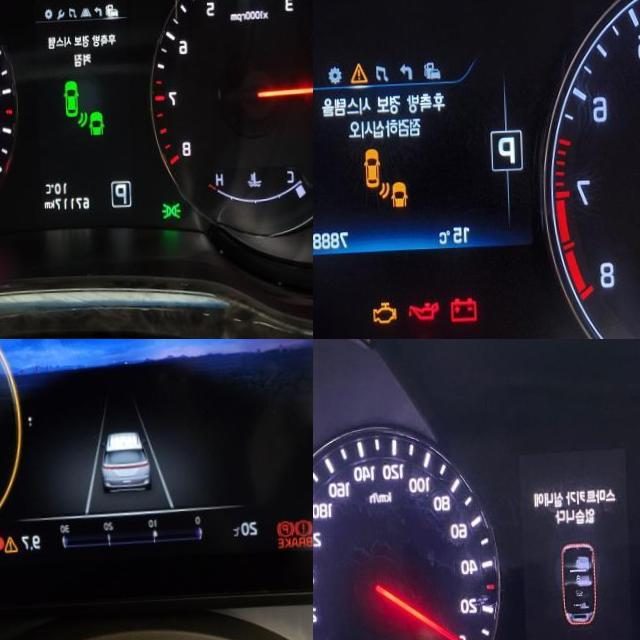Central Warning lamp: (349, 64, 368, 86), (1, 537, 17, 555)
SideLamp: (160, 203, 179, 223)
